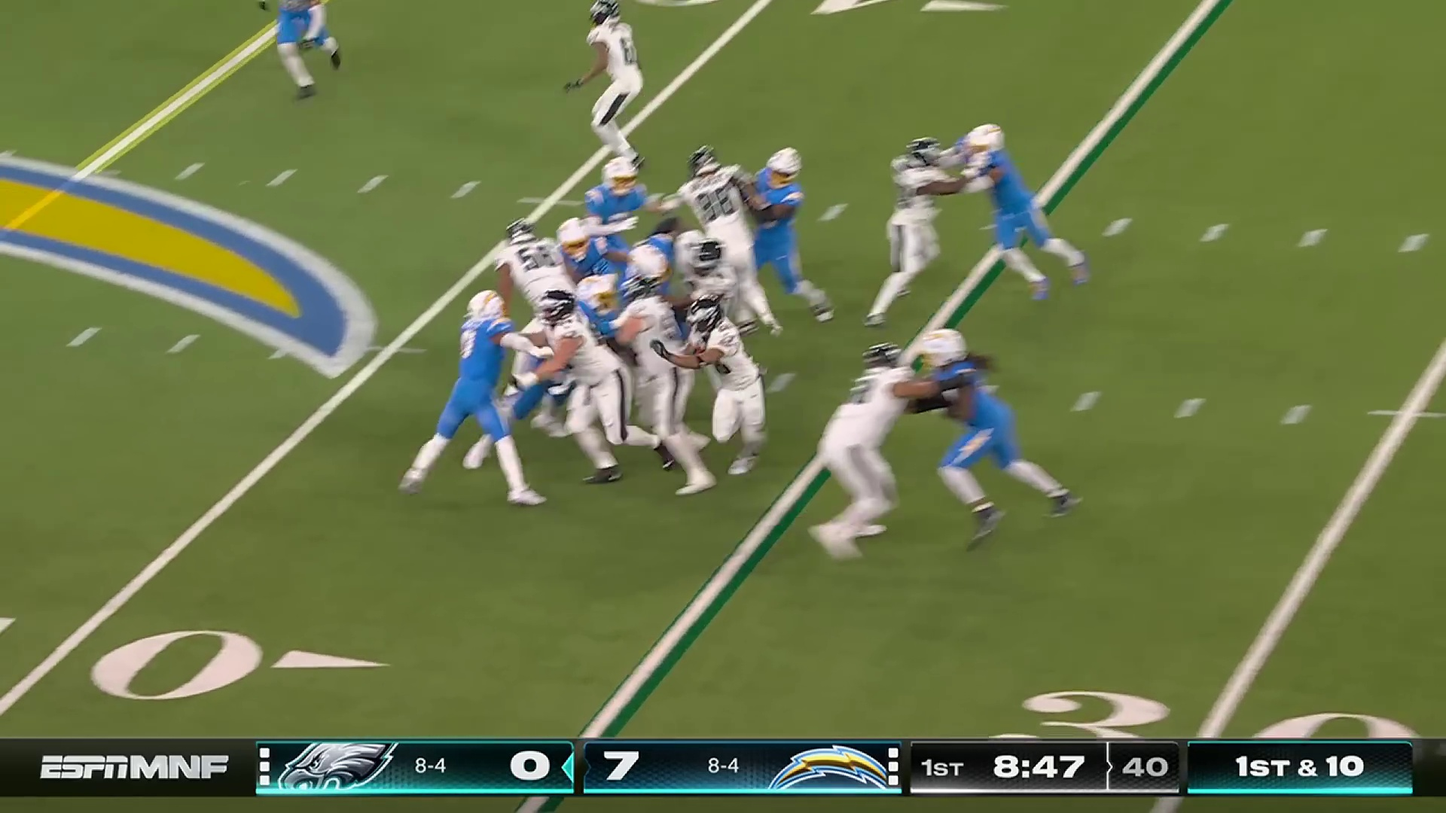ball: (678, 337, 704, 362)
player: (924, 330, 1025, 542), (823, 347, 905, 562), (964, 122, 1063, 297), (541, 295, 626, 473), (693, 148, 772, 316), (695, 309, 767, 471), (754, 153, 826, 315), (443, 303, 510, 475), (888, 137, 950, 304), (626, 297, 682, 474), (583, 1, 638, 168), (501, 220, 572, 342), (258, 0, 336, 110), (684, 241, 748, 346), (593, 163, 650, 266), (550, 287, 614, 373), (566, 224, 633, 305), (629, 239, 679, 305)
